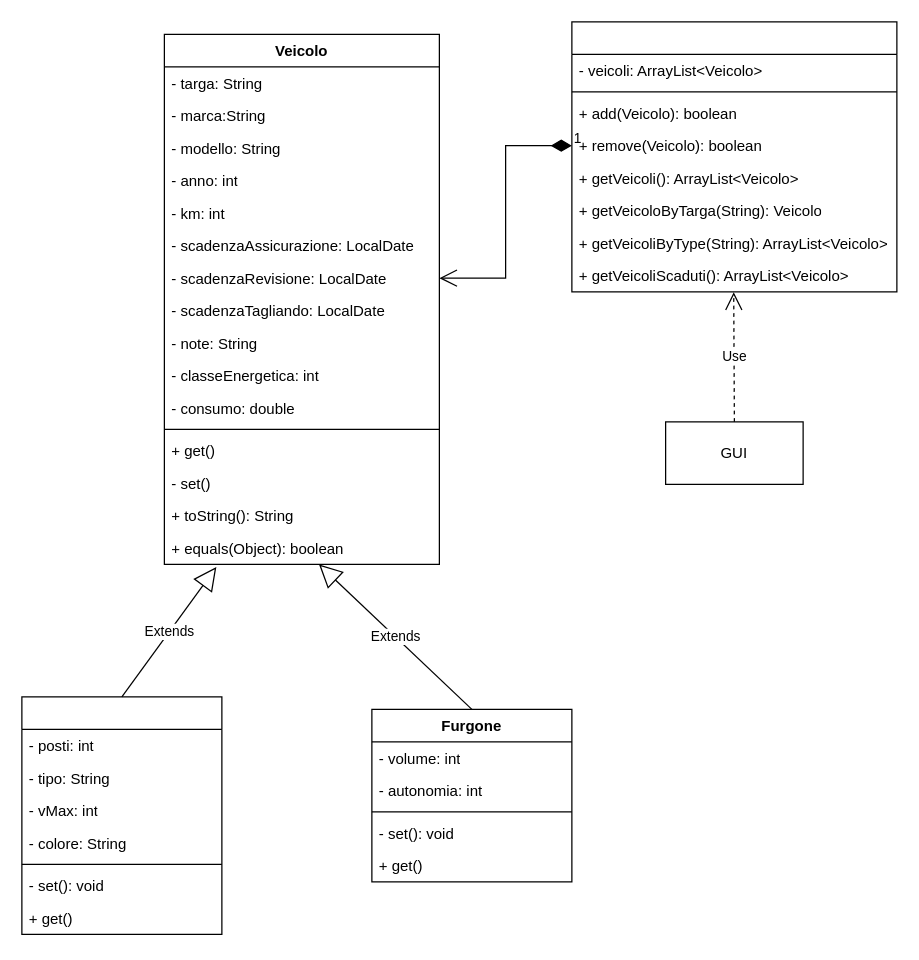
Some shapes in this 919 by 960 pixel diagram are drawn without their labels. Here are the shapes that lost their labels. From the top down, the box of each, then its label:
(571, 21, 897, 292): Gestore
(21, 696, 222, 934): Auto
